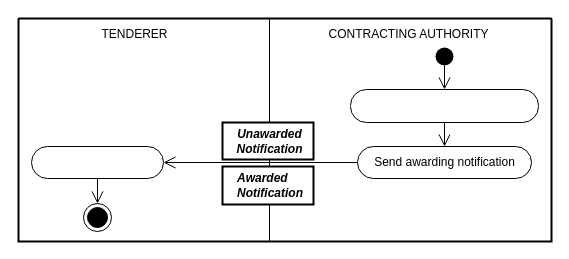
This 569x259 diagram has some shape labels left out. Each missing label, with the centre of its shape:
"Prepare awarding notification" belongs at (444,105).
"Receive notification" belongs at (97,162).
